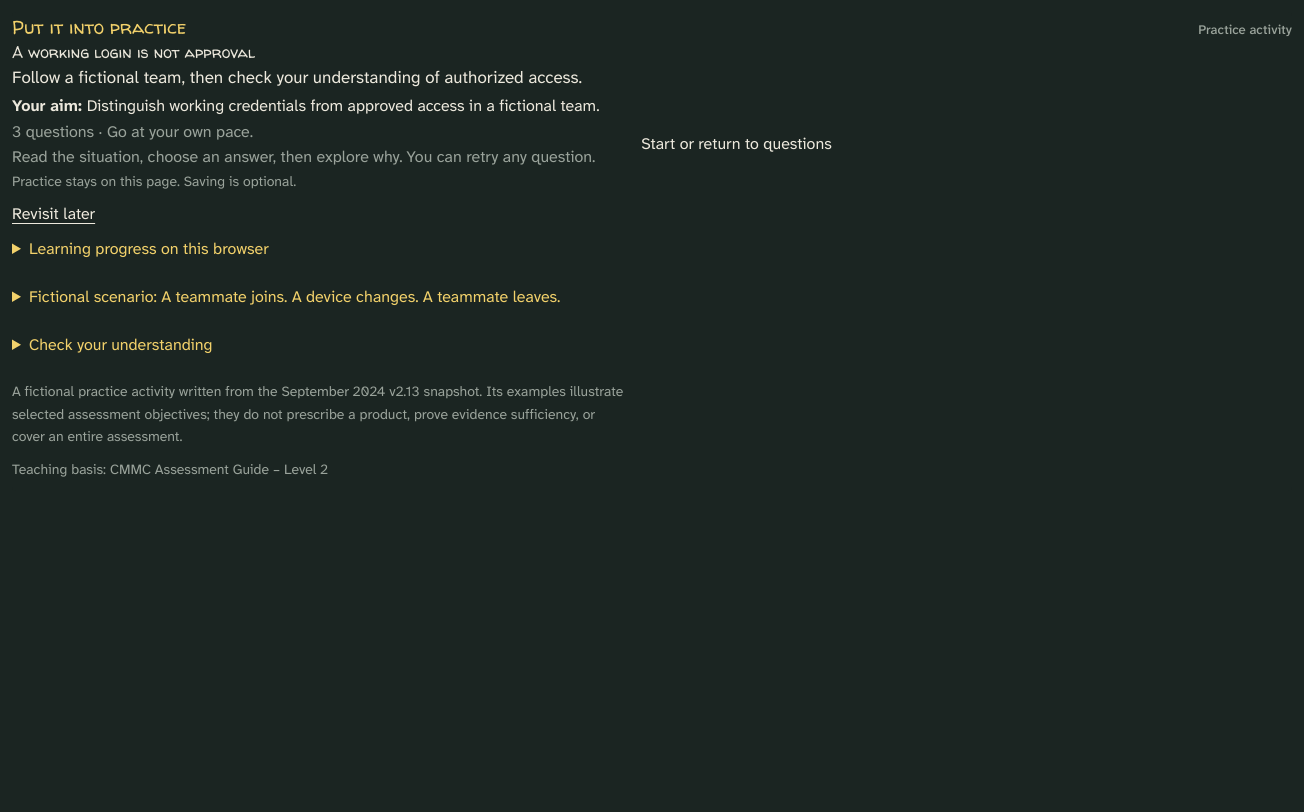
LearningPractice › requires a deliberate selection and check before advancing
Click the heading "Check your understanding" at [121, 345], box [29,334,212,355]
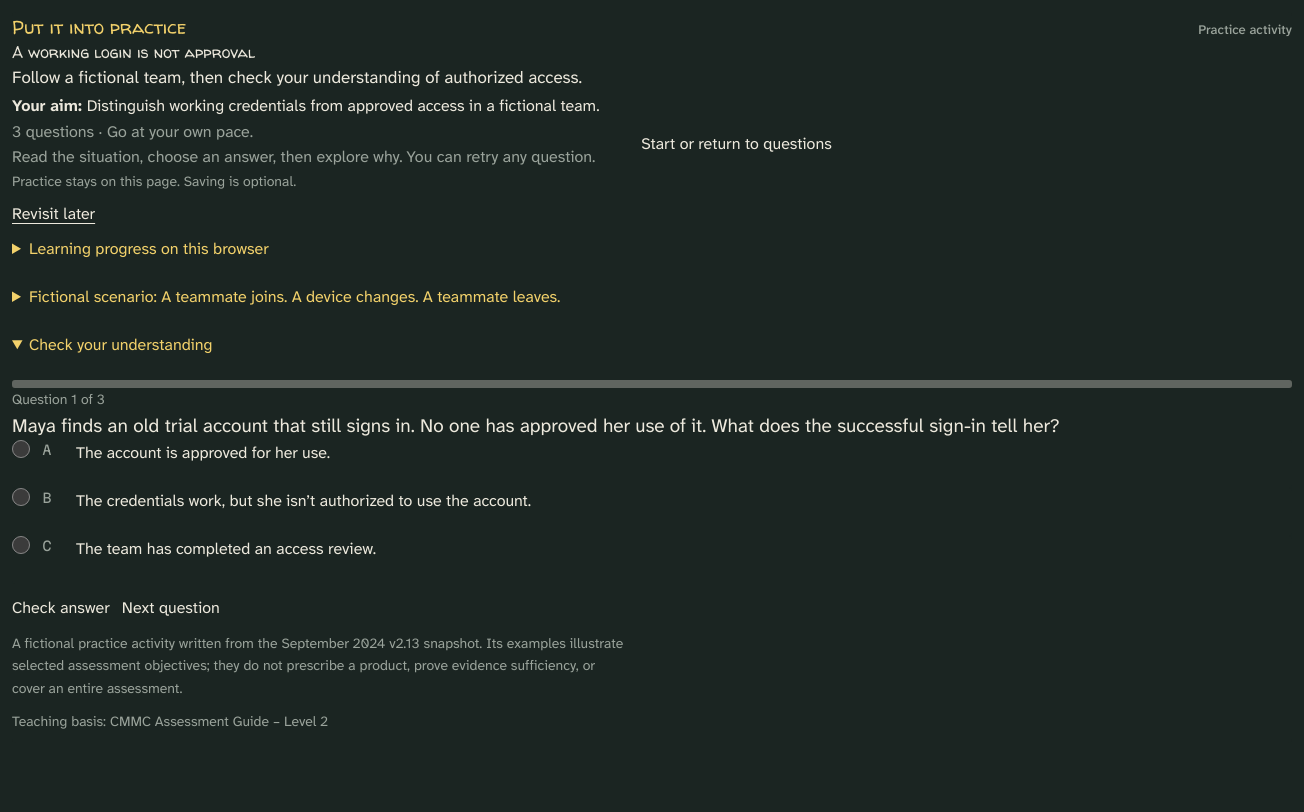
Result: the text "Question 1 of 3" is shown at [12,390,105,408]
Result: the number of radio buttons is 3
Result: the button "Check answer" is disabled at [12,584,110,632]
Click the radio button labelled "The credentials work, but she isn’t authorized to use the account." at [21, 497], box [12,488,30,506]
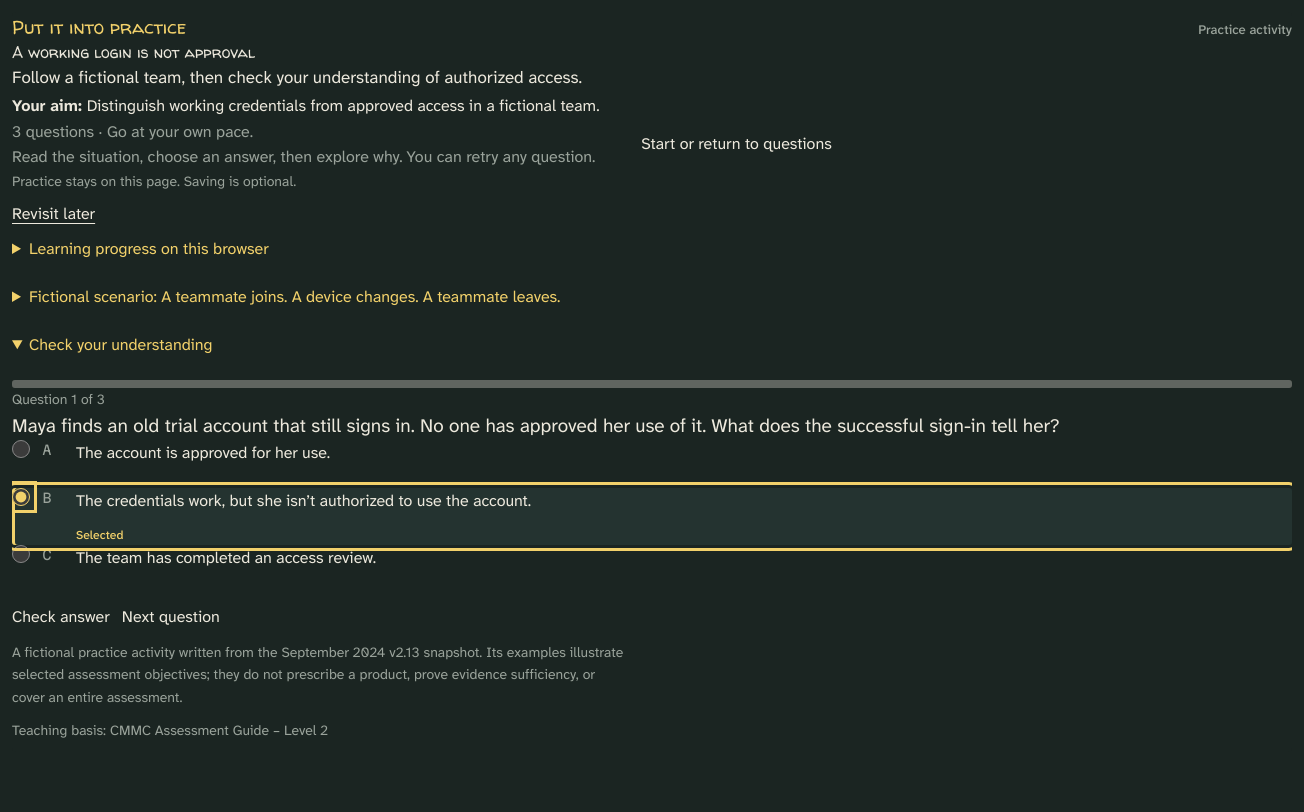
Result: the button "Next question" is disabled at [122,593,220,641]
Result: the button "Check answer" is enabled
Click the button "Check answer" at [61, 617], box [12,593,110,641]
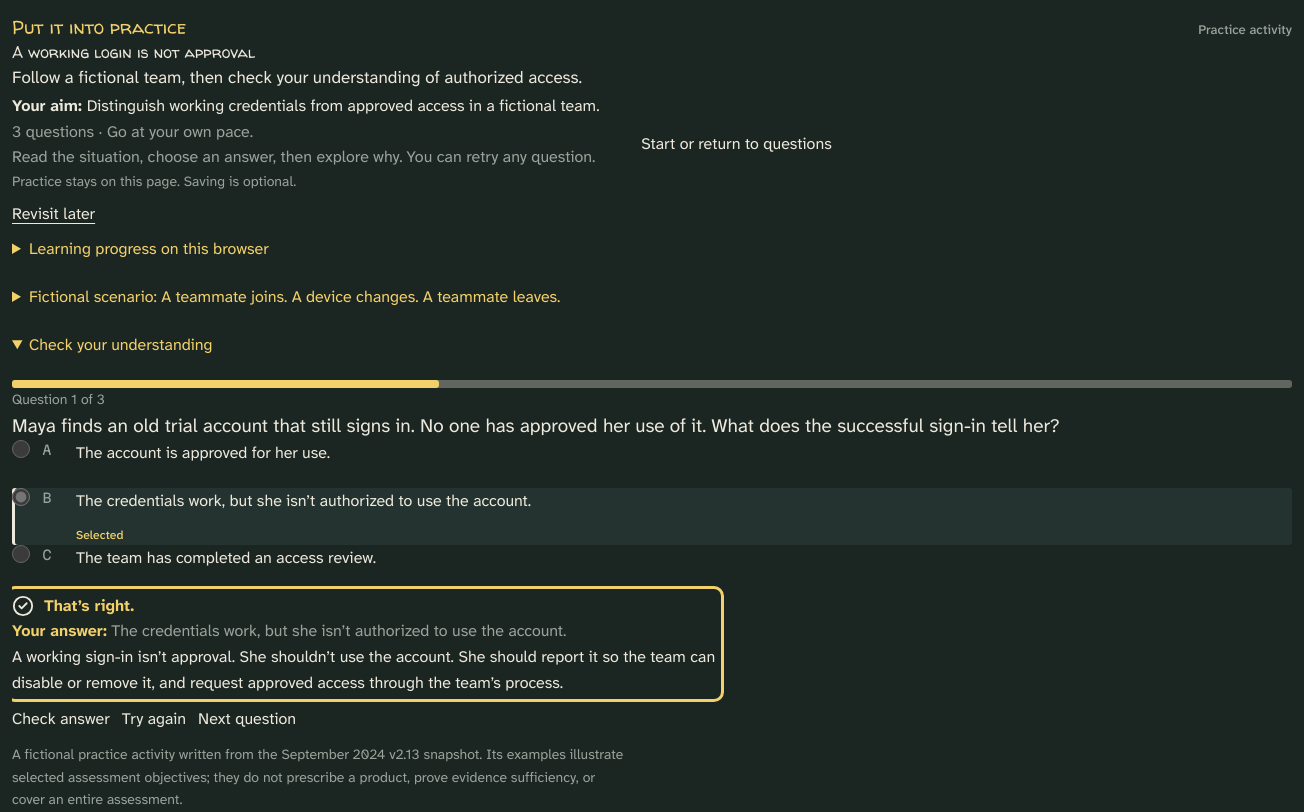
Result: the message named "Answer feedback" shows "That’s right." at [44,595,134,616]
Result: the message named "Answer feedback" shows "A working sign-in isn’t approval. She shouldn’t use the account. She should report it so the team can disable or remove it, and request approved access through" at [12,646,715,693]
Result: the button "Check answer" is disabled at [12,695,110,743]
